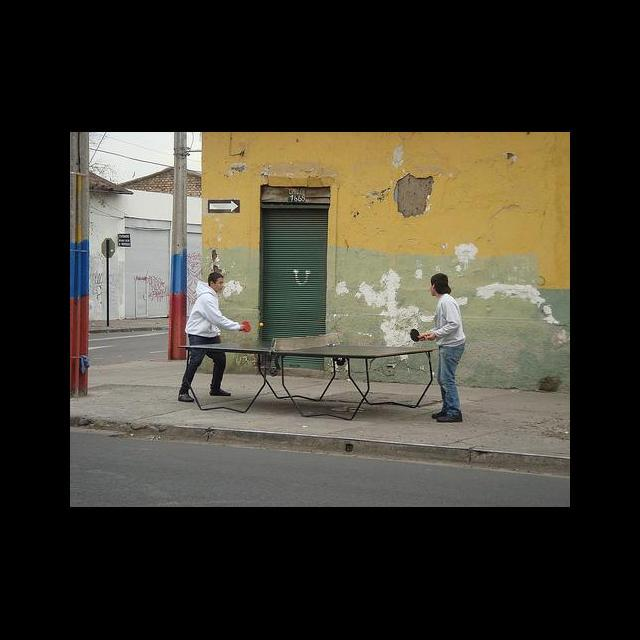ping-pong-ball: (260, 323, 264, 328)
